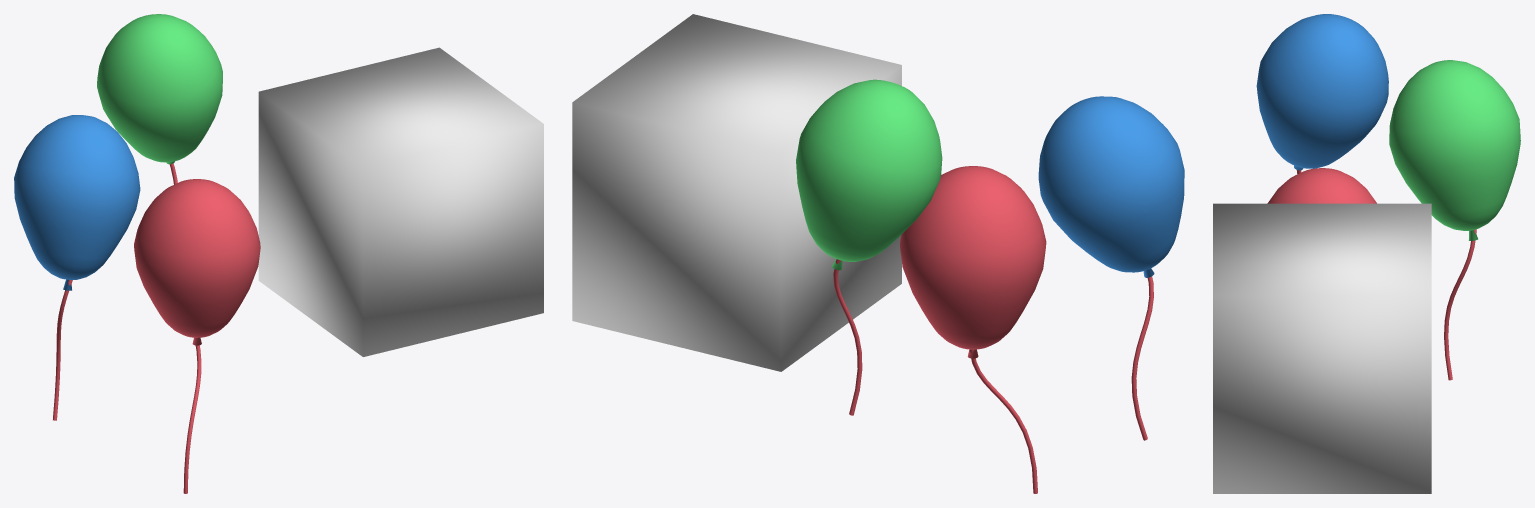
Rendered from 1751307159527-balloons.glb.
3 renders of one model, left to right at view 1: azimuth 30°, elevation 25°; view 2: azimuth 150°, elevation 25°; view 3: azimuth 270°, elevation 25°, orthographic. The views are drawn at different scales.
Visible parts, largest first — view 1: Cube.003, BézierCurve.002, BézierCurve, BézierCurve.001; view 2: Cube.003, BézierCurve.001, BézierCurve.002, BézierCurve; view 3: Cube.003, BézierCurve.001, BézierCurve.002, BézierCurve.
Part boxes in pixels (<box>): Cube.003: <box>258,47,543,356</box>; BézierCurve.002: <box>14,115,140,420</box>; BézierCurve: <box>134,179,260,493</box>; BézierCurve.001: <box>97,14,222,184</box>; Cube.003: <box>572,14,901,371</box>; BézierCurve.001: <box>796,79,942,415</box>; BézierCurve.002: <box>1038,96,1184,440</box>; BézierCurve: <box>900,166,1046,493</box>; Cube.003: <box>1213,203,1431,493</box>; BézierCurve.001: <box>1389,60,1520,380</box>; BézierCurve.002: <box>1256,14,1388,174</box>; BézierCurve: <box>1267,168,1376,203</box>.
Bounding box in the file's own units: 5.19 × 4.23 × 2.82.
